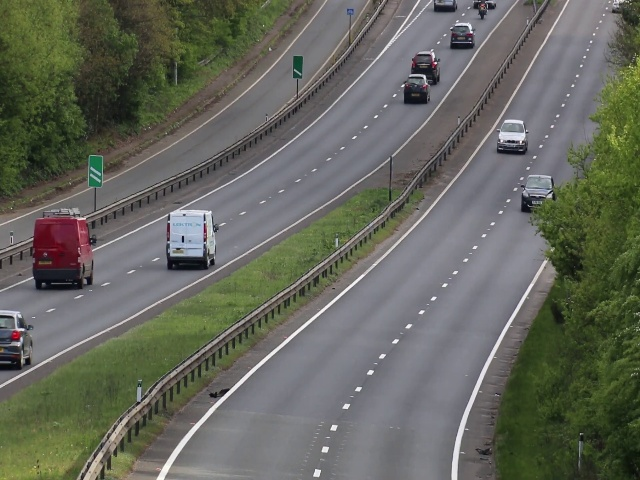car: (34, 210, 93, 288), (164, 209, 218, 267), (1, 309, 34, 367), (495, 117, 527, 153), (522, 170, 553, 200), (412, 52, 441, 84), (404, 74, 430, 105), (449, 22, 475, 48)
